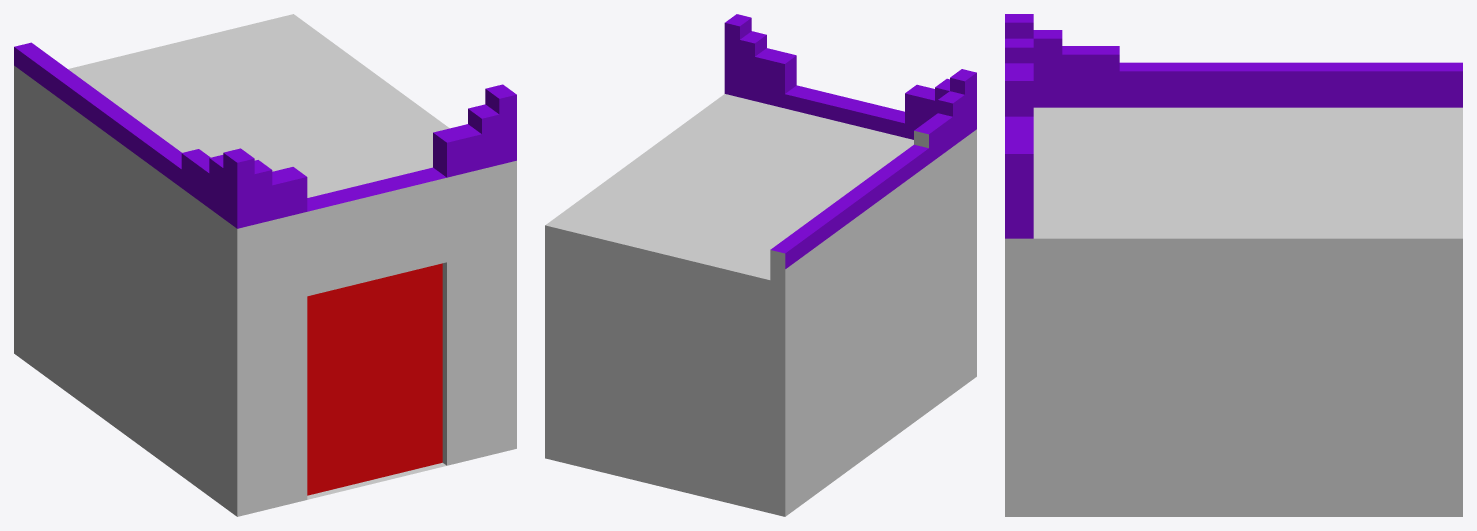
3 views of the same model, side by side, from view 1: azimuth 30°, elevation 25°; view 2: azimuth 150°, elevation 25°; view 3: azimuth 270°, elevation 25° (orthographic). The views are drawn at different scales.
Visible parts, largest first — view 1: Cube.002; view 2: Cube.002; view 3: Cube.002.
Part boxes in pixels (x1,y1,x2,y2): Cube.002: (14,14,516,516); Cube.002: (545,14,976,516); Cube.002: (1005,14,1462,516).
Bounding box in the file's own units: 120 × 145 × 166.
